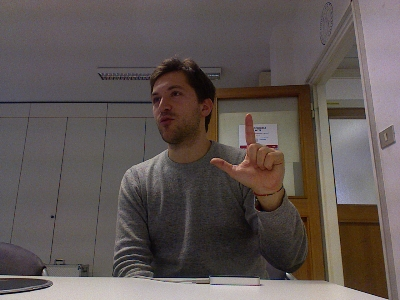枪: (209, 112, 285, 194)
